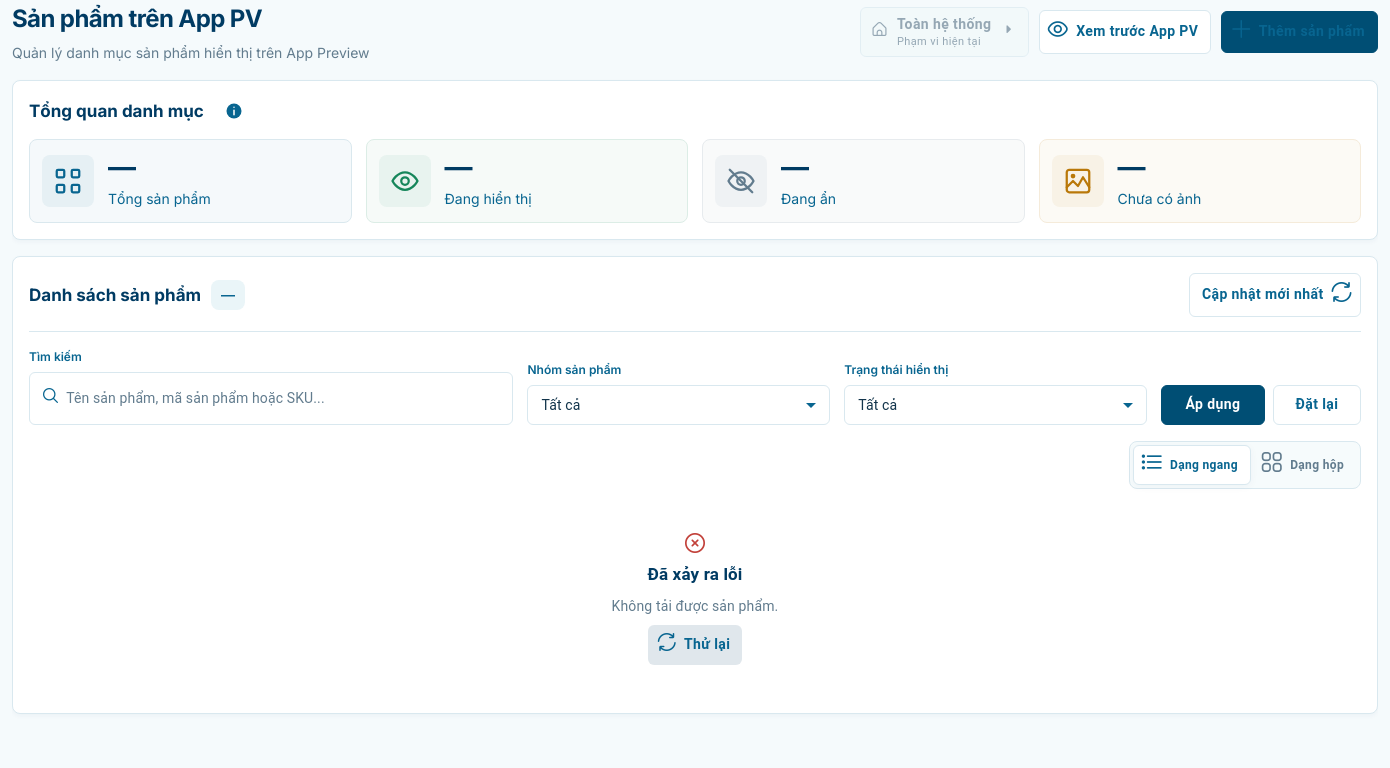
MST-PV-01 · catalog interactions › recovers from a list error using Retry and shows a distinct filtered no-match state
Click the button "Thử lại" at point(695, 645), box [648,625,742,665]
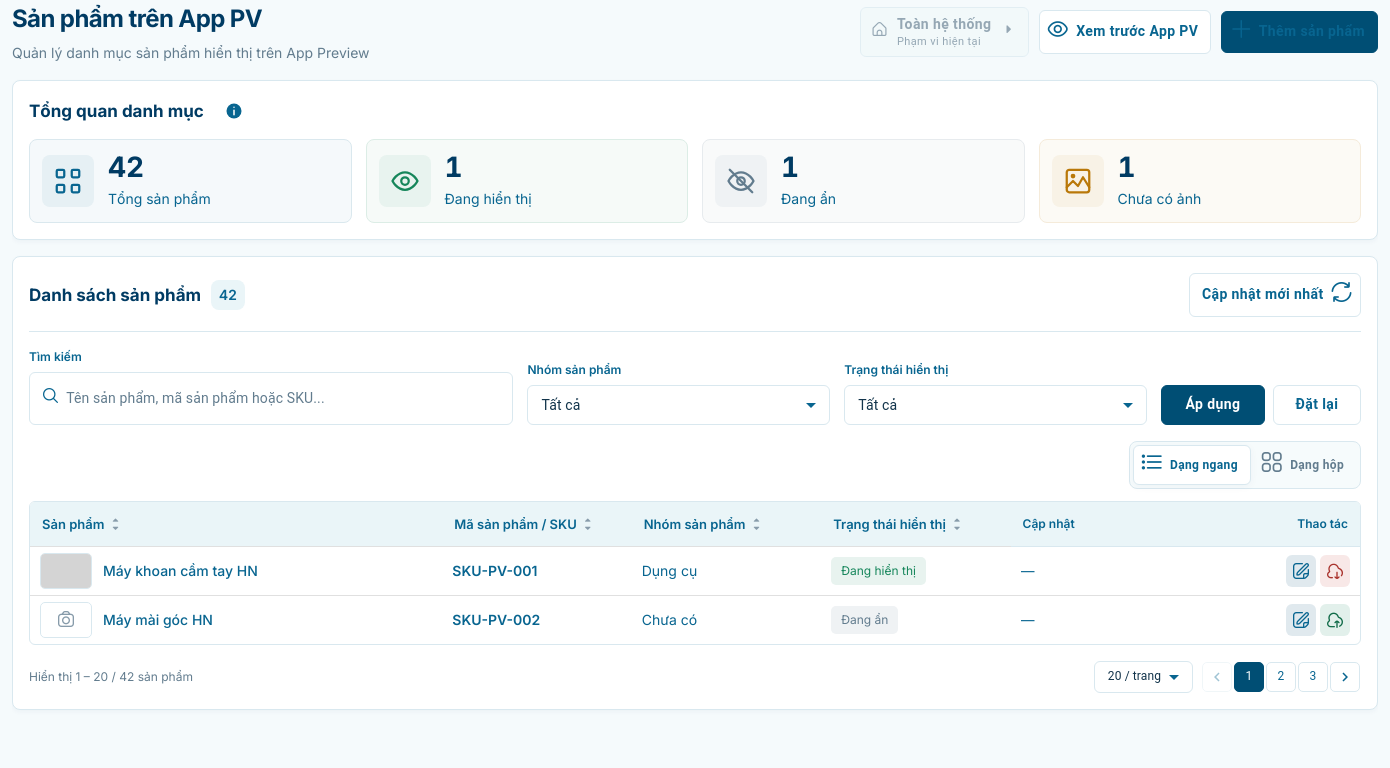
Expected: the text "Máy khoan cầm tay HN" is shown, [103,562,258,579]
Type "NO-MATCH" into the field at point(290, 398), box [66,372,513,425]
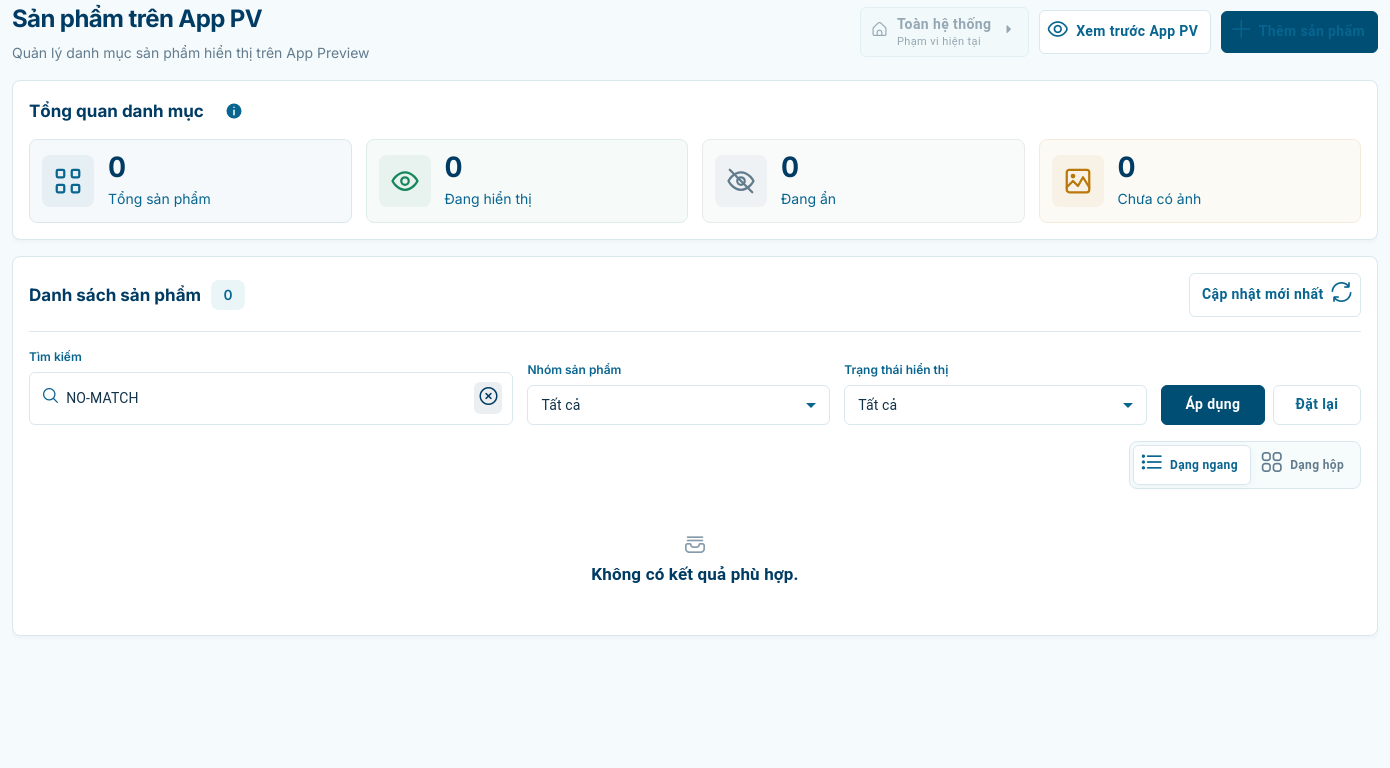
Expected: the number of buttons "Thêm sản phẩm" is 1, [1221,11,1378,53]
Expected: the heading "Không có kết quả phù hợp." is shown, [591,561,799,587]
Expected: the table is gone
